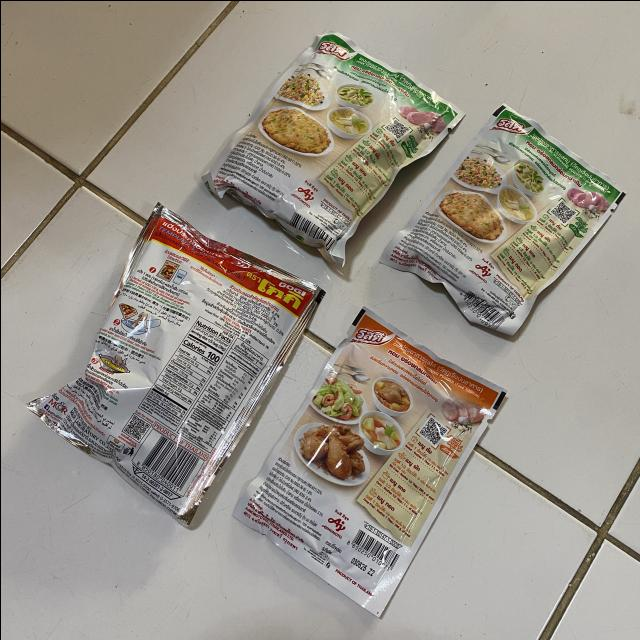plastik: (28, 204, 323, 523), (233, 308, 504, 615), (201, 32, 463, 265), (379, 104, 623, 334)
